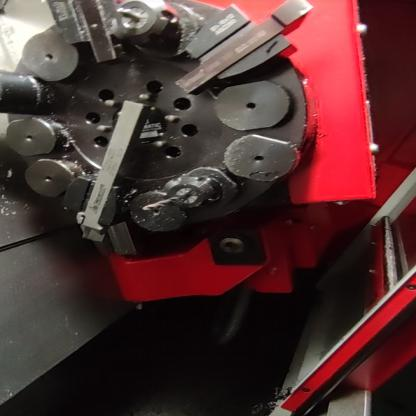bit: (51, 96, 161, 246), (166, 0, 325, 102), (42, 0, 126, 65)
